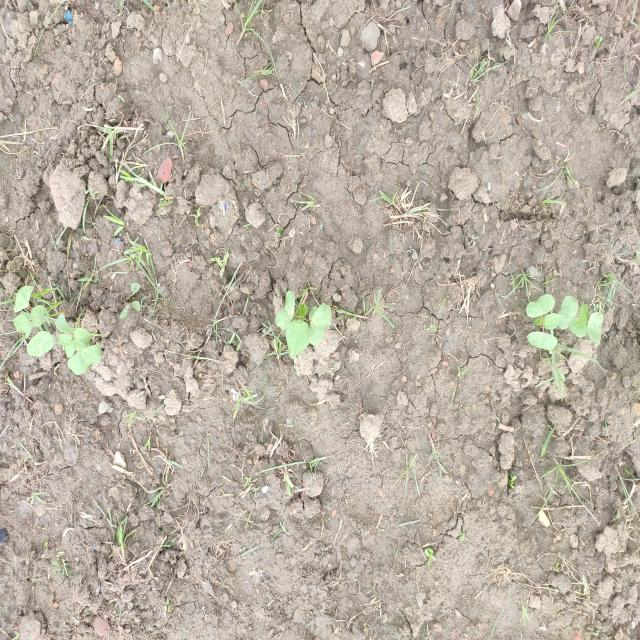seedling: (67, 344, 102, 375), (285, 319, 310, 359), (308, 303, 329, 346), (275, 291, 295, 330), (27, 331, 54, 357), (558, 295, 578, 330), (526, 294, 555, 318), (526, 331, 557, 350), (587, 312, 603, 345), (14, 286, 33, 313), (13, 314, 32, 338), (57, 334, 76, 358), (73, 327, 92, 351), (31, 305, 49, 327), (55, 313, 74, 332), (543, 313, 564, 330), (570, 318, 587, 338), (579, 303, 590, 324)
